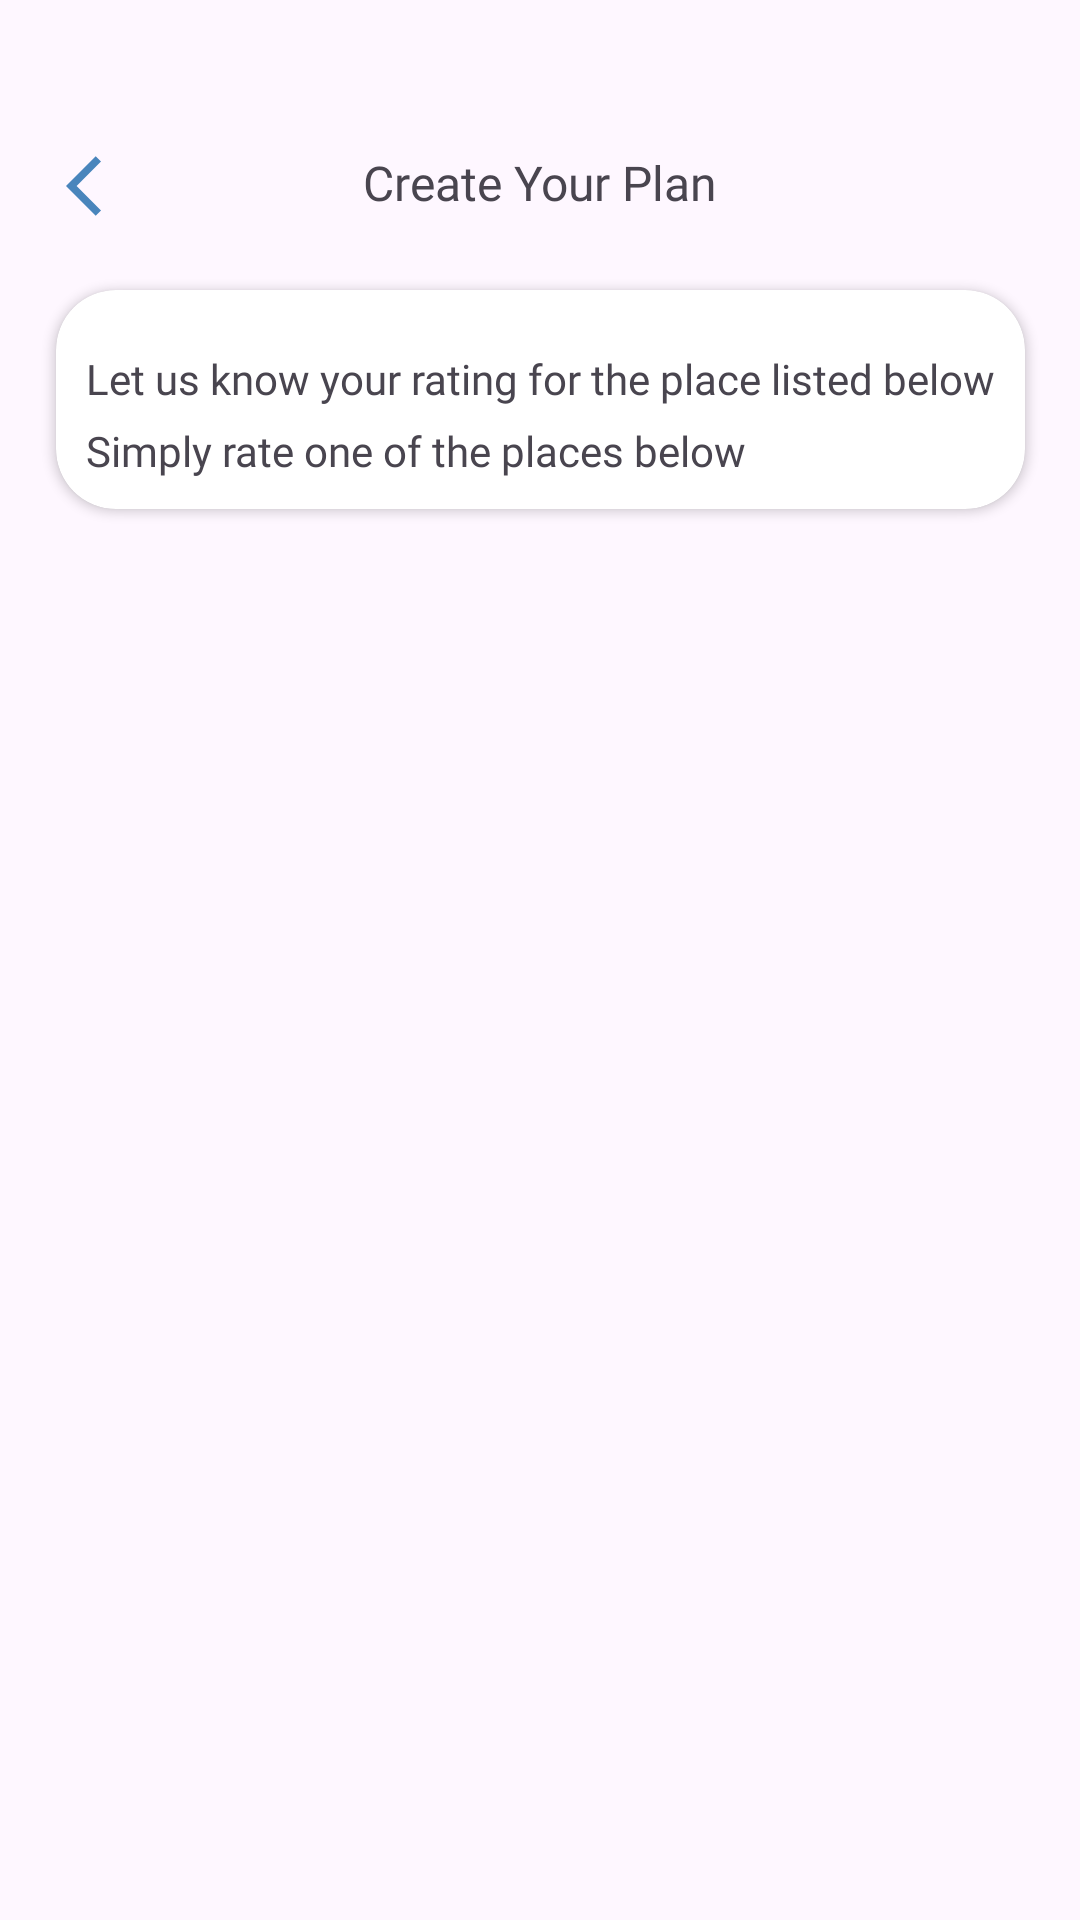

Named icons in this screenshot (1080x1920) and their bounding boxes, (x1, y1, x2, y2):
back: (66, 156, 101, 216)
